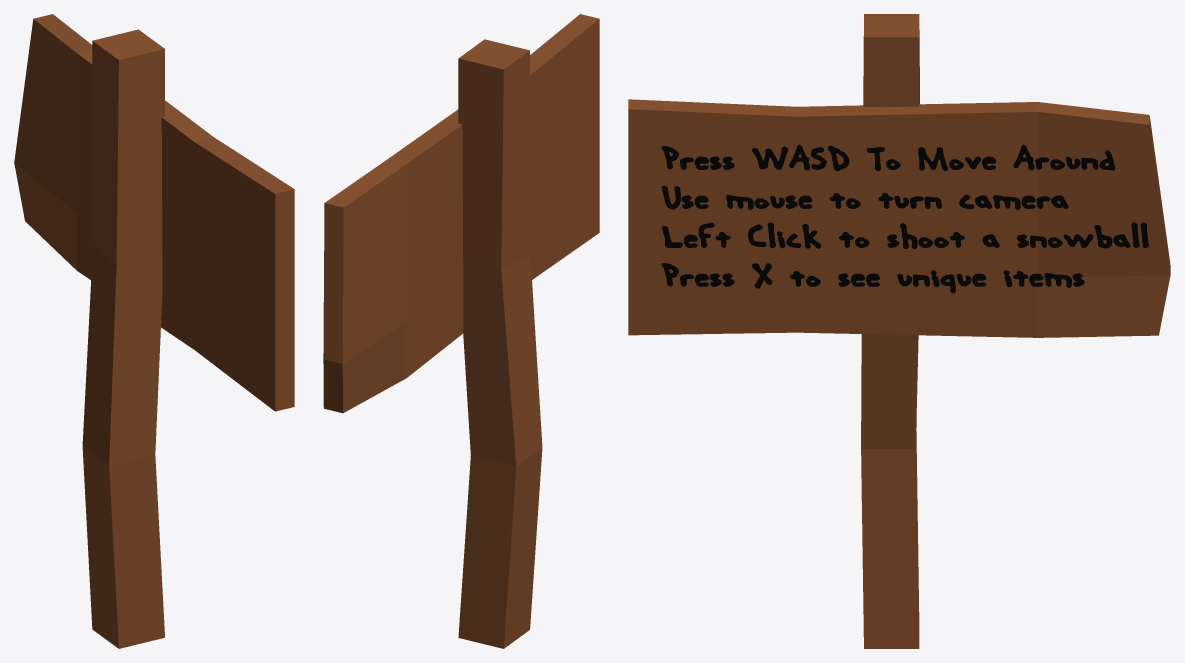
File: Control.fbx
3 renders of one model, left to right at view 1: azimuth 30°, elevation 25°; view 2: azimuth 150°, elevation 25°; view 3: azimuth 270°, elevation 25°, orthographic. The views are drawn at different scales.
Visible parts, largest first — view 1: Cube.001, Cube; view 2: Cube.001, Cube; view 3: Cube.001, Cube, Text.
Boxes of the visible parts, bbox=[...] form: Cube.001: bbox=[14, 14, 294, 411]; Cube: bbox=[82, 29, 164, 648]; Cube.001: bbox=[323, 14, 599, 413]; Cube: bbox=[458, 39, 542, 648]; Cube.001: bbox=[628, 99, 1170, 337]; Cube: bbox=[861, 14, 919, 648]; Text: bbox=[661, 144, 1148, 293].
Bounding box in the file's own units: 66.74 × 455 × 365.
